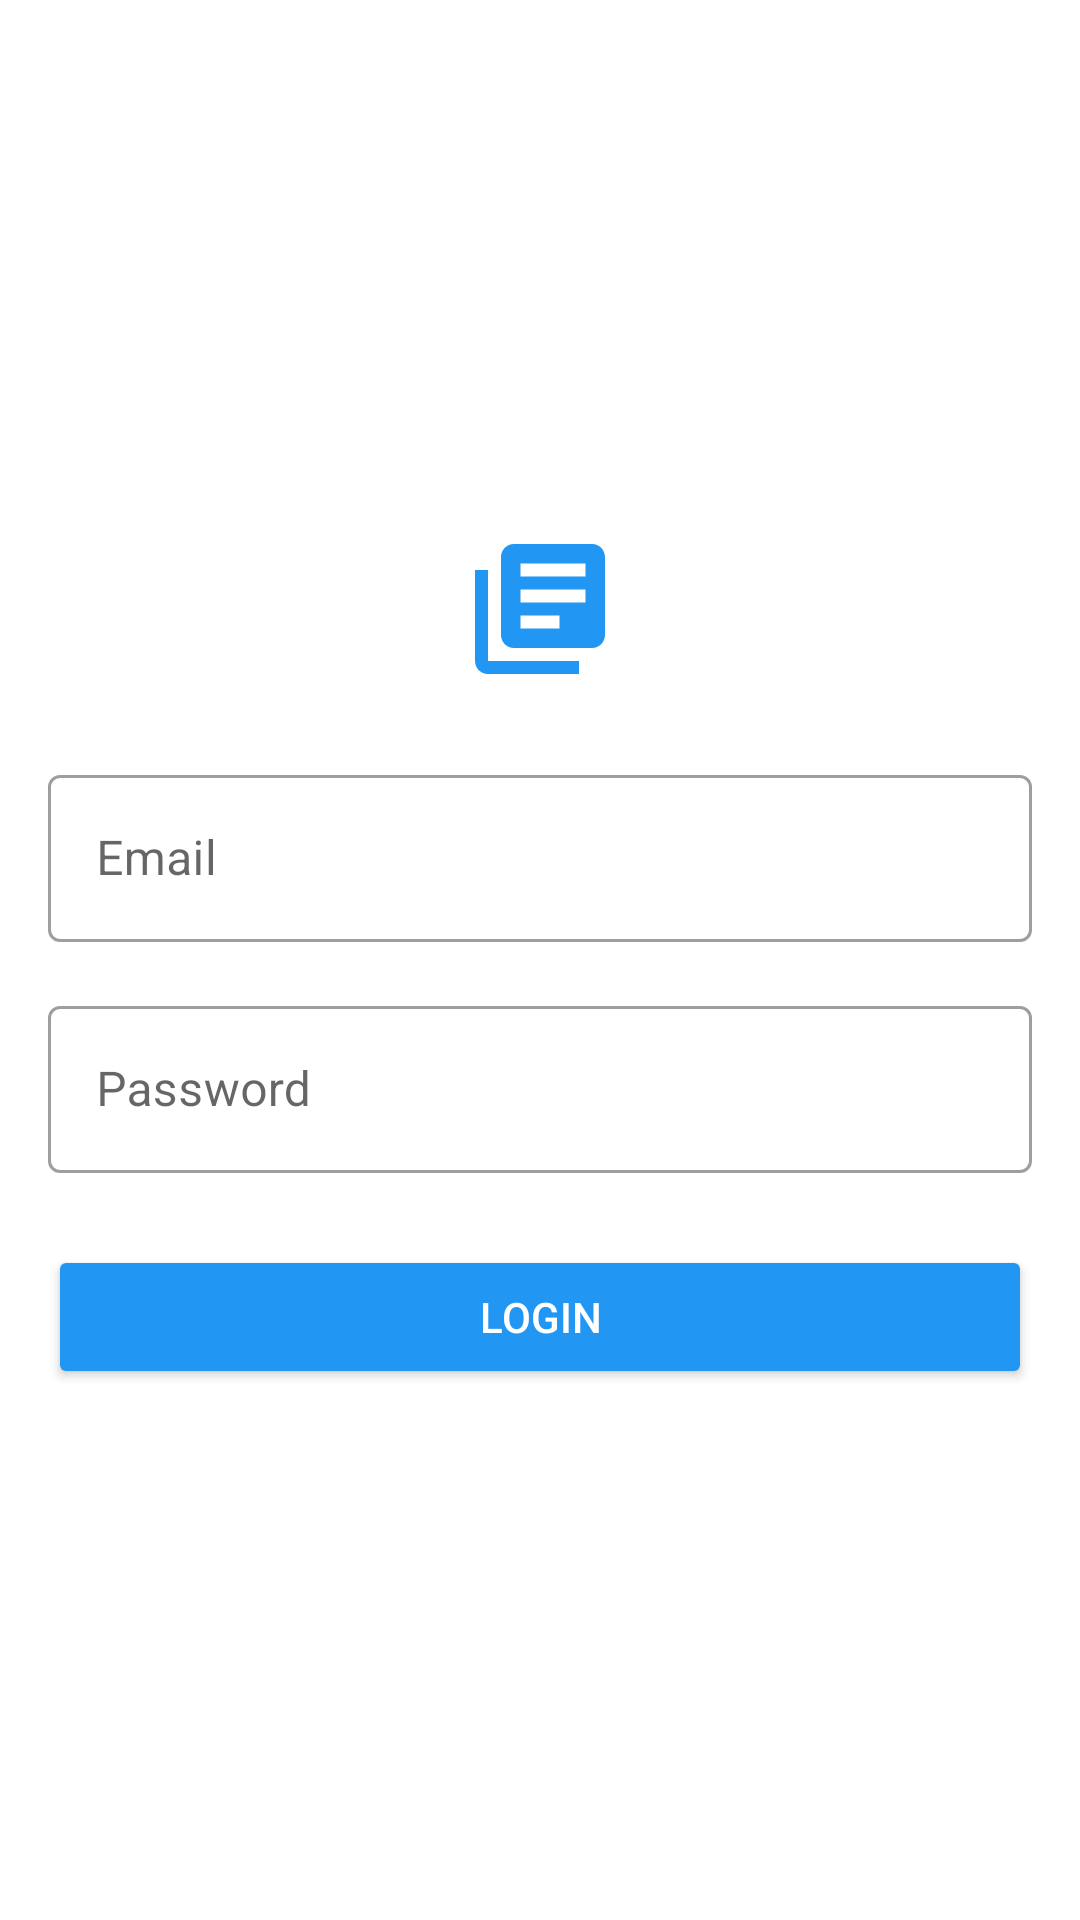

Icon click points for this 1080w x 1920h phone screenshot, format [x,y]:
library books: [540,609]
